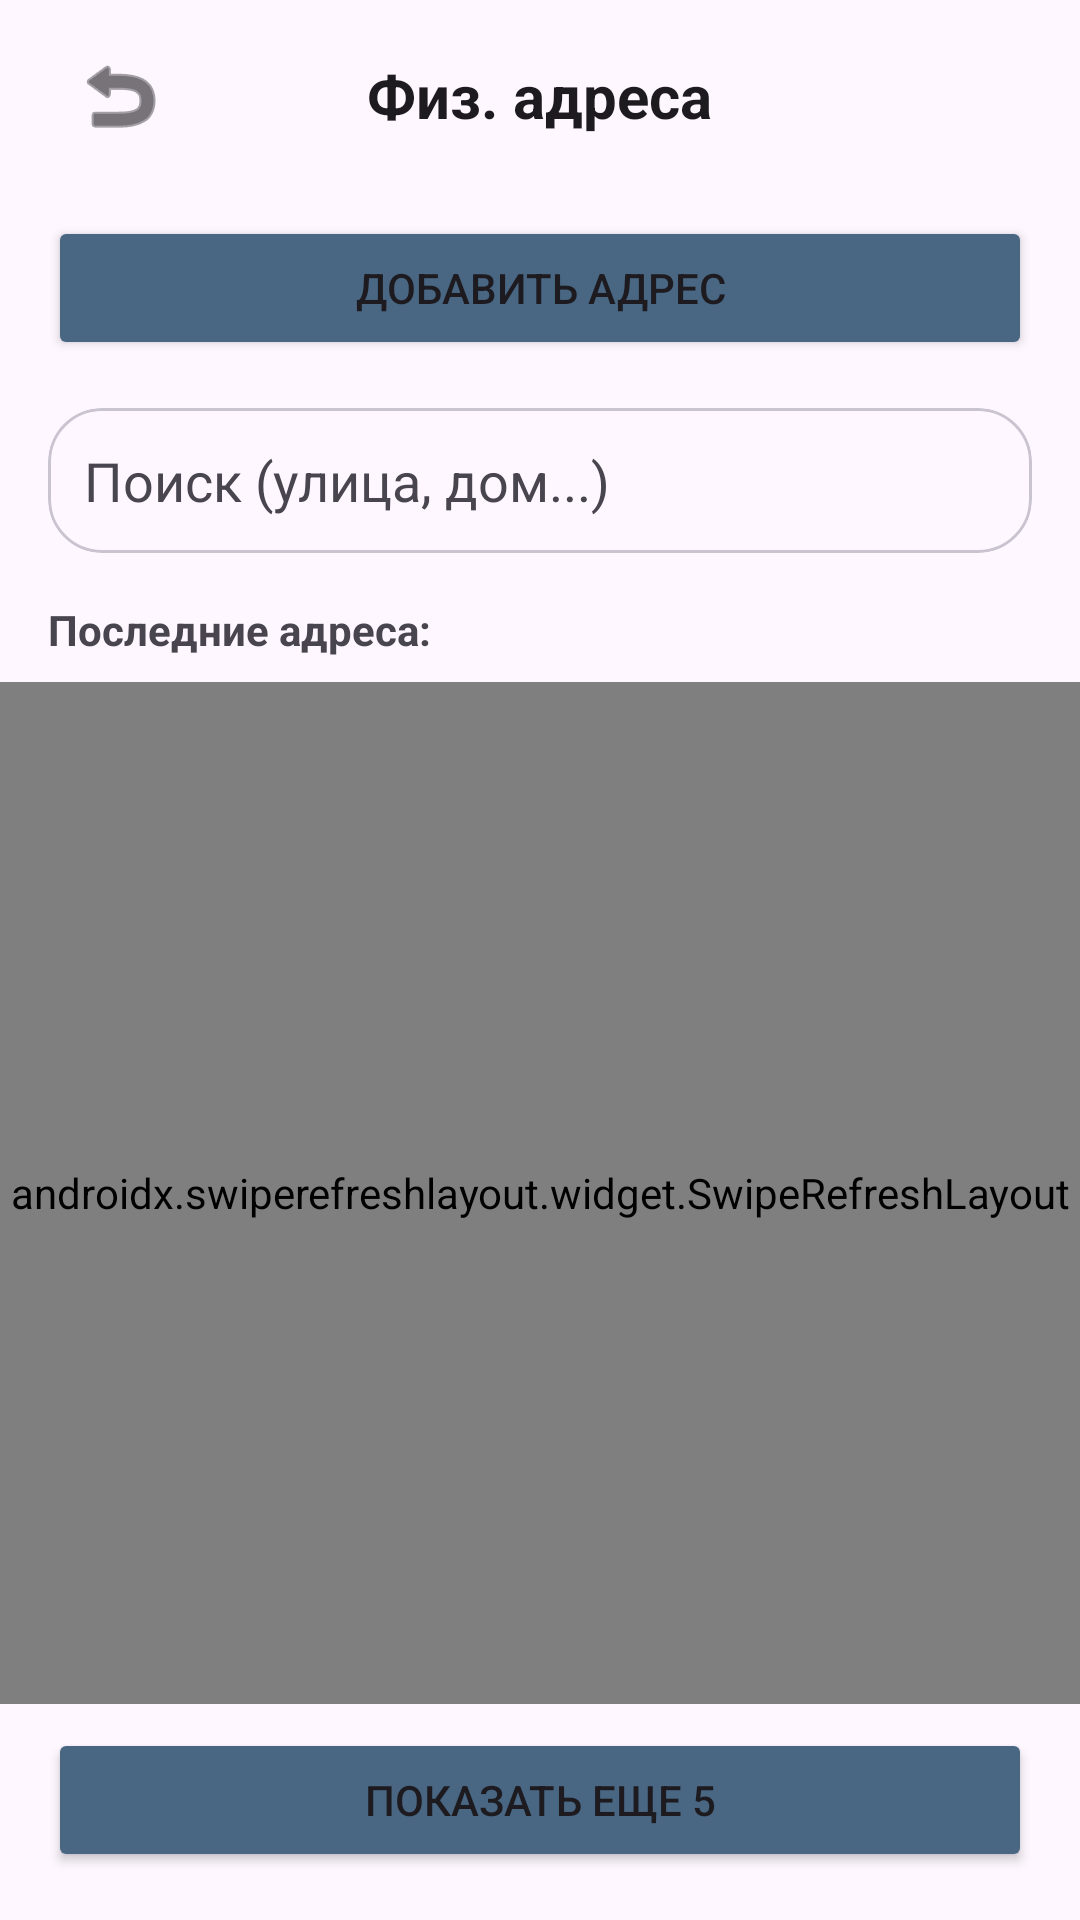

Where icons sit on this 1080*1920 app screen, as (x1, y1, x2, y2):
revert: (87, 65, 156, 128)
